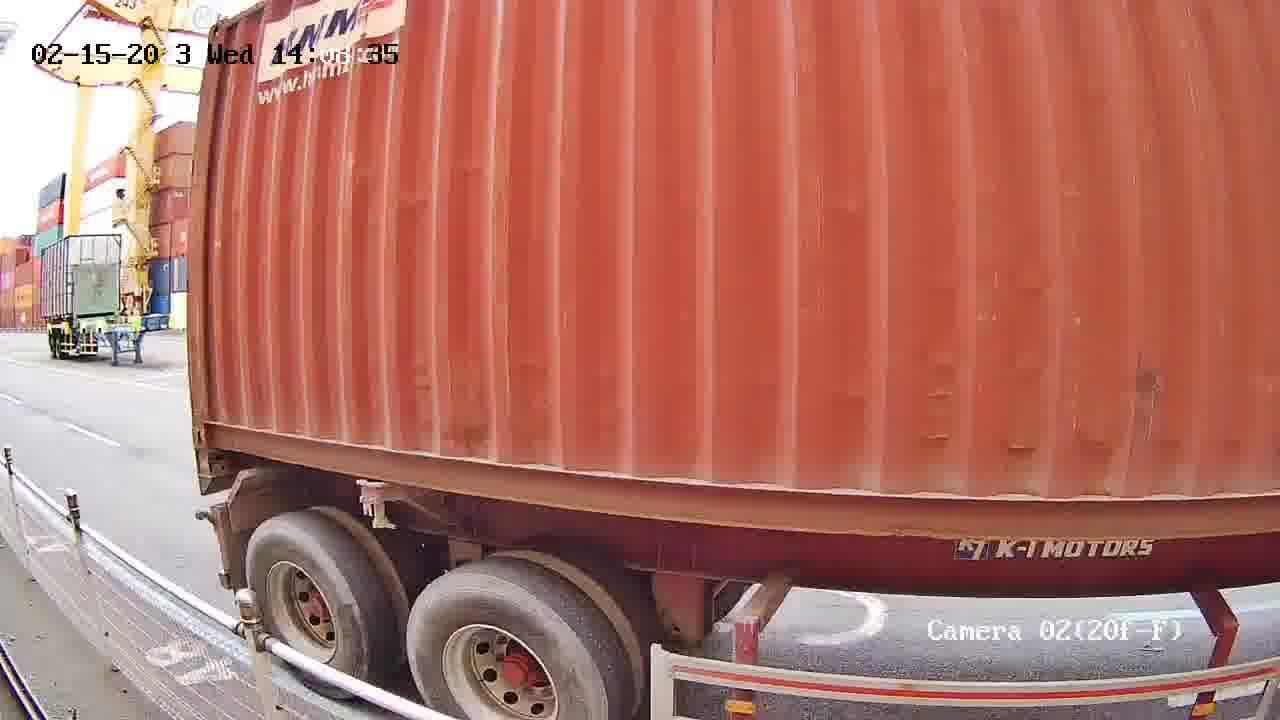Cone: (194, 449, 221, 475)
Hole_L: (187, 392, 240, 451)
Tire: (407, 577, 610, 719), (245, 523, 362, 674)
